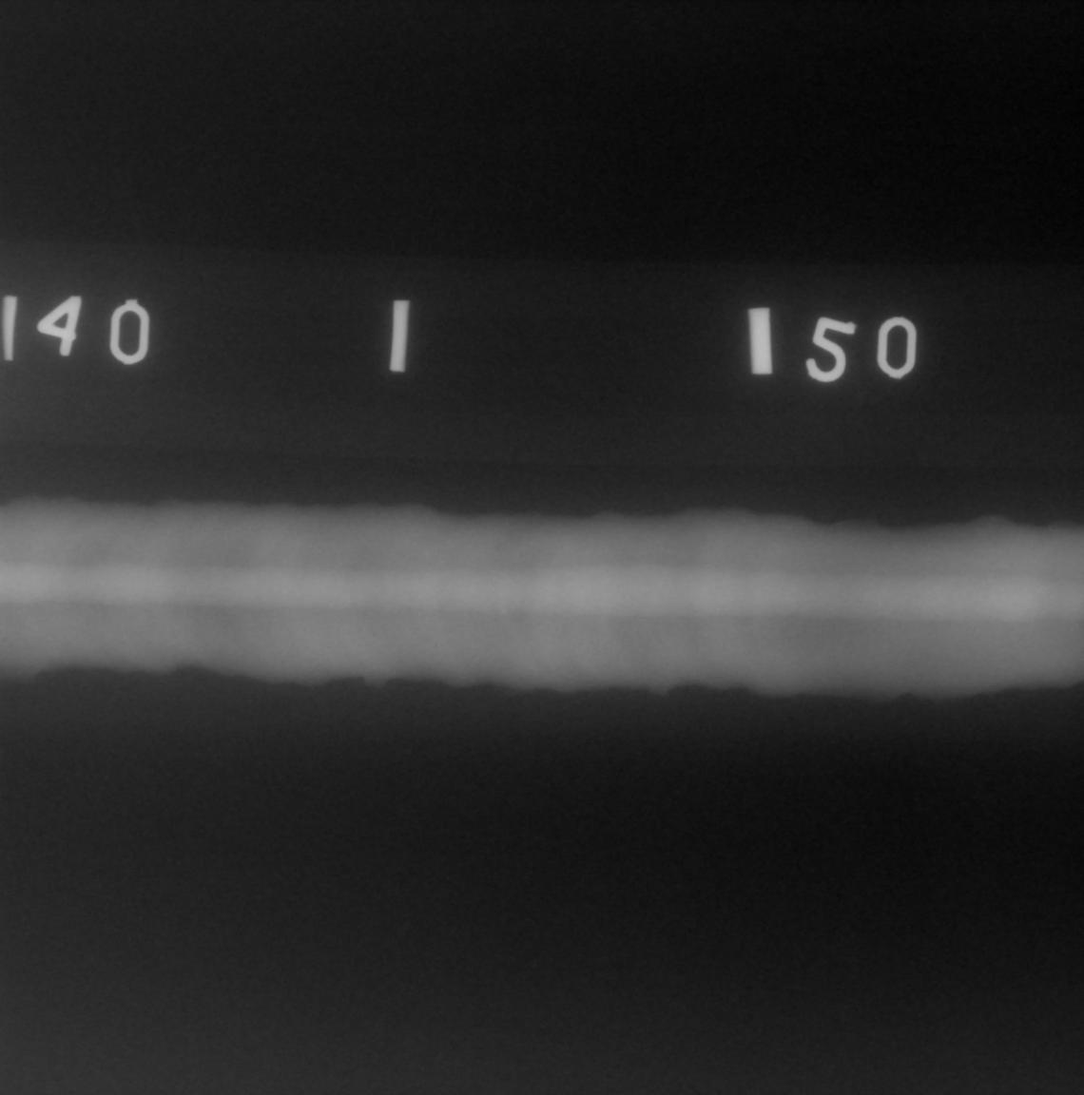Pore/Porosity: (406, 608, 412, 613)
